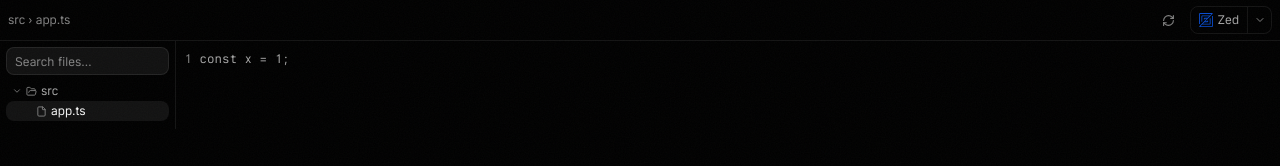
Test: FilesPanel polish › refreshes workspaceTree on button click without remounting or clearing preview
Later steps or results of the test are not shown.
Expected: the text "const x = 1;" is shown, left=200, top=51, right=290, bottom=66
Expected: the text "app.ts" is shown, left=51, top=103, right=86, bottom=118
What coordinates should you click on to do the following:
click the button named "Refresh files"
I would click on:
 (1168, 20)
Its box is left=1154, top=6, right=1182, bottom=34.
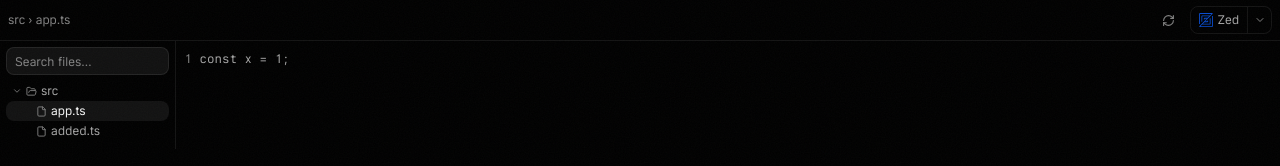
Expected: the text "const x = 1;" is shown, left=200, top=51, right=290, bottom=66
Expected: the text "added.ts" is shown, left=51, top=123, right=100, bottom=138
